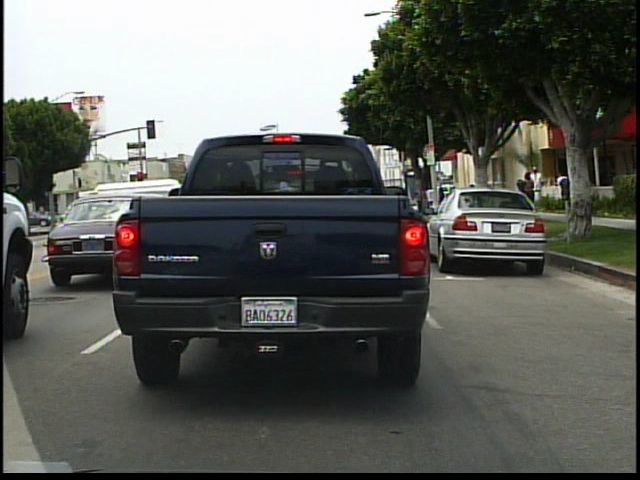person: (553, 168, 574, 215), (480, 173, 498, 213)
